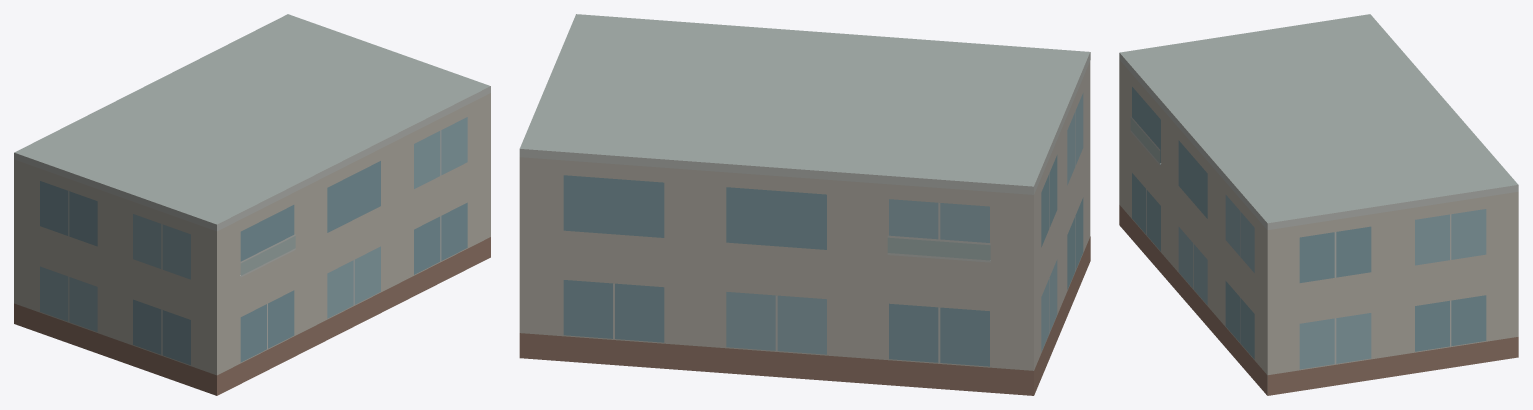
The model's file is survey-upis-33000013.glb.
3 renders of one model, left to right at view 1: azimuth 30°, elevation 25°; view 2: azimuth 150°, elevation 25°; view 3: azimuth 270°, elevation 25°, orthographic. The views are drawn at different scales.
Visible parts, largest first — view 1: survey-upis-33000013.tmp; view 2: survey-upis-33000013.tmp; view 3: survey-upis-33000013.tmp.
Part boxes in pixels (<box>): survey-upis-33000013.tmp: <box>14,14,490,395</box>; survey-upis-33000013.tmp: <box>519,14,1090,395</box>; survey-upis-33000013.tmp: <box>1119,14,1518,395</box>.
Size of the model in its own units: 15.88 by 6.1 by 12.8.
